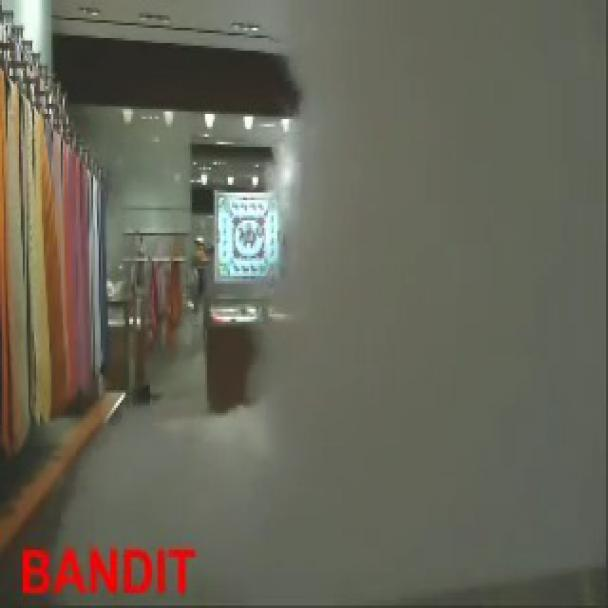smoke: (3, 0, 607, 606)
